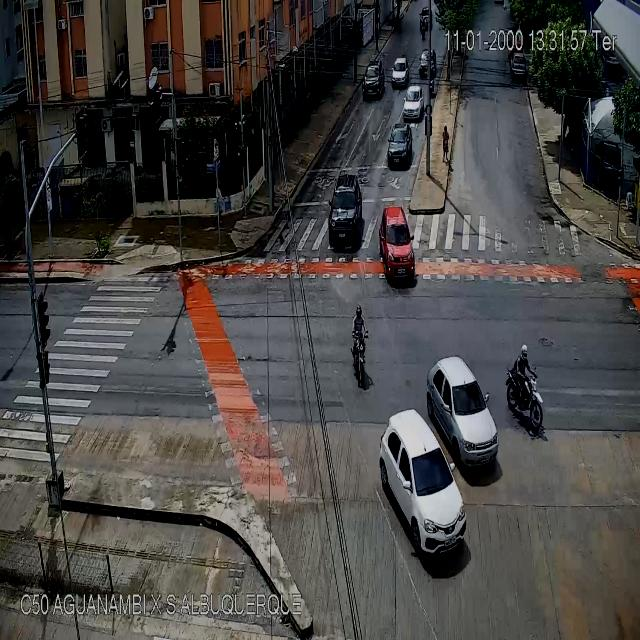Car: (378, 408, 467, 553), (428, 356, 498, 472), (380, 205, 415, 279), (328, 173, 363, 243), (386, 126, 411, 165), (363, 63, 382, 97), (403, 87, 424, 116), (392, 56, 411, 86), (418, 49, 436, 74), (512, 54, 527, 76), (419, 8, 434, 28)
Motorcycle: (505, 344, 544, 437), (350, 304, 368, 388), (421, 13, 426, 40)
